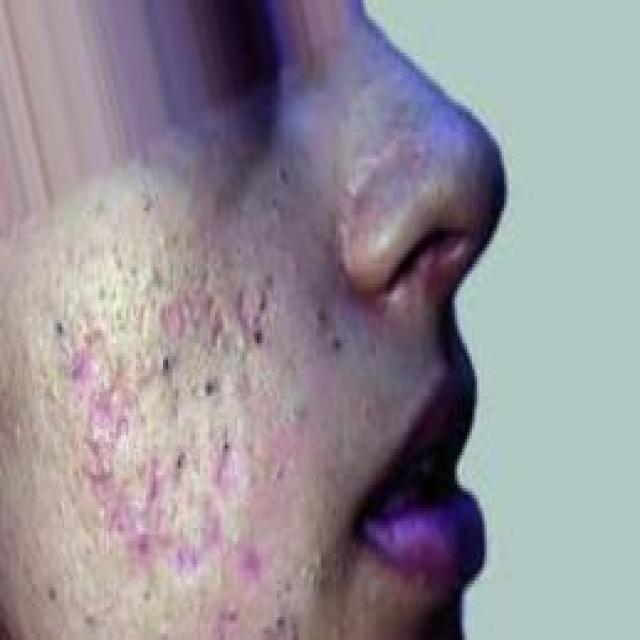acne: (52, 333, 164, 552)
